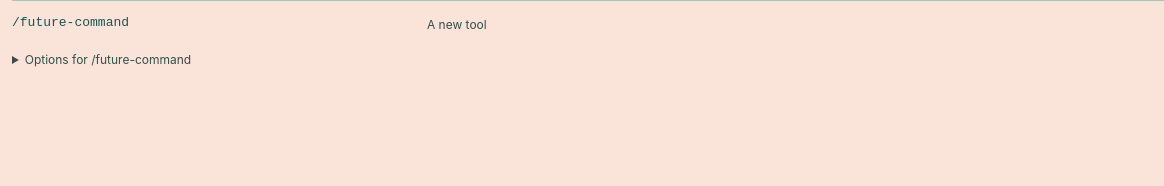
Test: new commands and nested options render without a custom component
Click the heading "Options for /future-command".
click(108, 60)  # box [25,52,191,67]
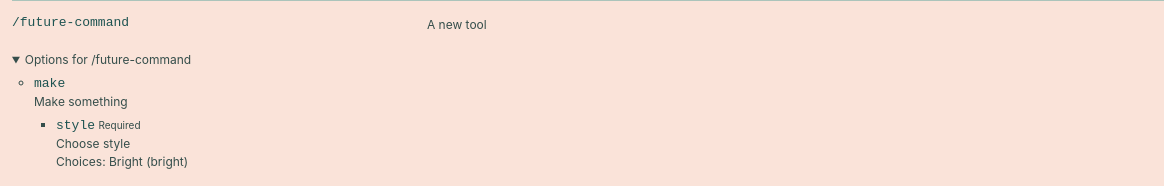
Expected: the text "style" is shown, [56,118,95,133]
Expected: the text "Required" is shown, [98,119,140,131]
Expected: the text "Choices: Bright (bright)" is shown, [56,154,188,169]
